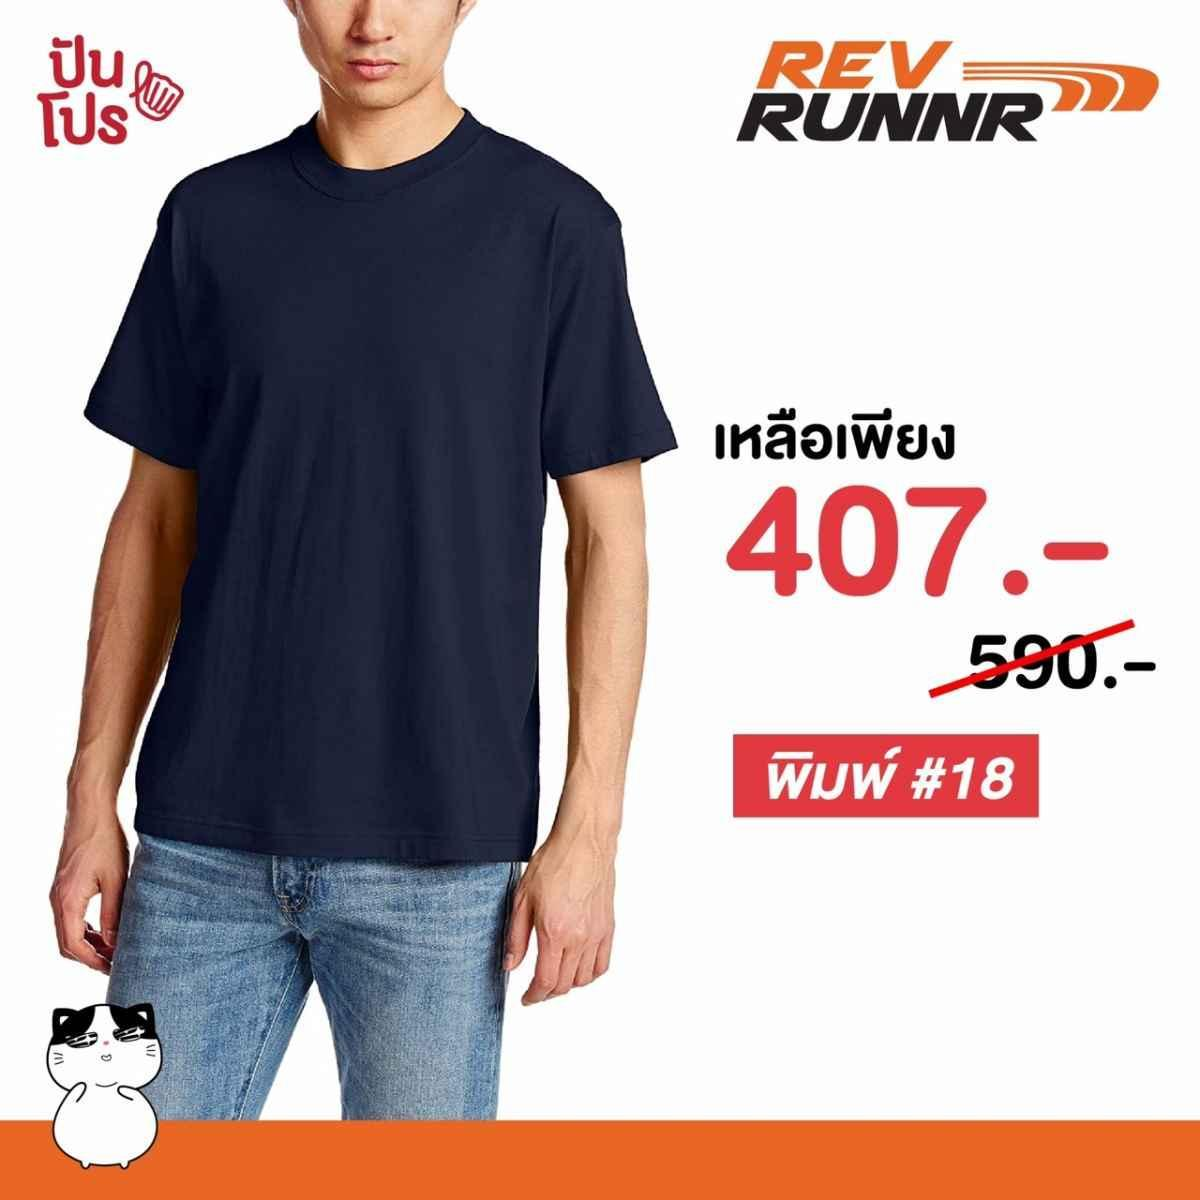Tshirt: (90, 123, 677, 853)
